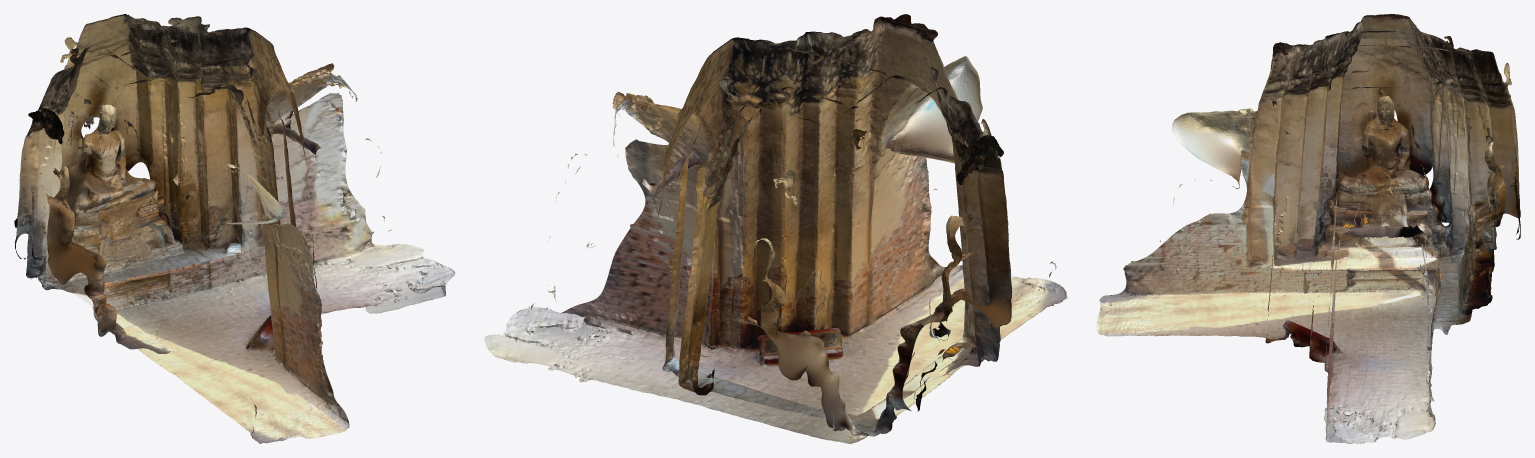
The picture shows the model from 3 angles, left to right: view 1: azimuth 30°, elevation 25°; view 2: azimuth 150°, elevation 25°; view 3: azimuth 270°, elevation 25°; orthographic projection. The views are drawn at different scales.
Size of the model in its own units: 8.69 by 6.04 by 8.36.
1 material, 1 textured.
